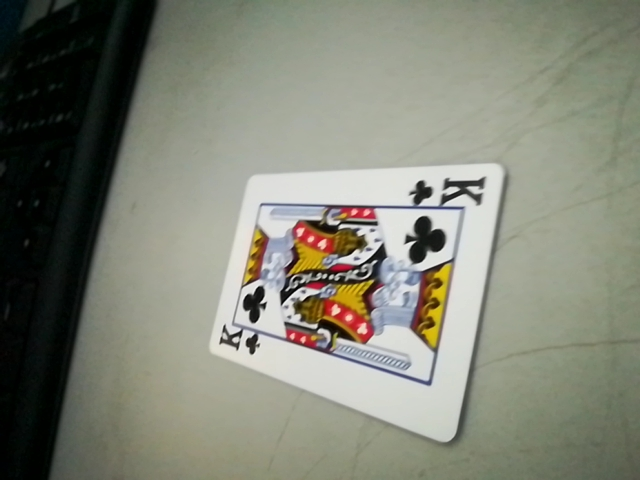mh k: (408, 170, 491, 209), (216, 323, 266, 359)
